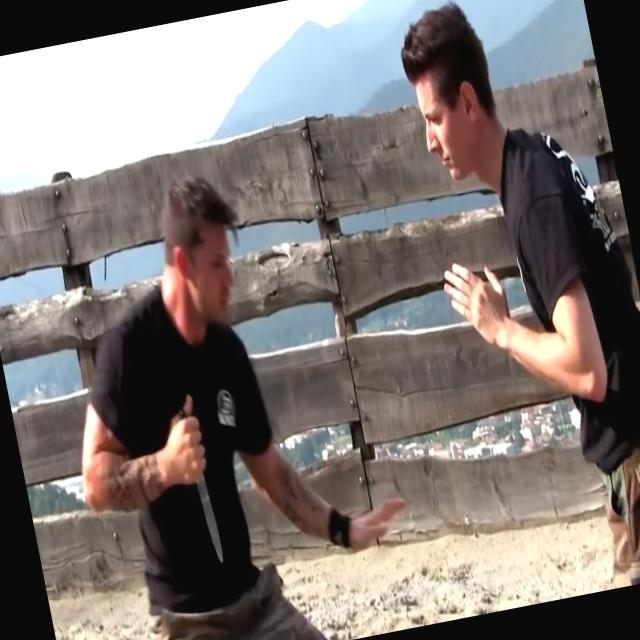knife: (167, 389, 234, 574)
